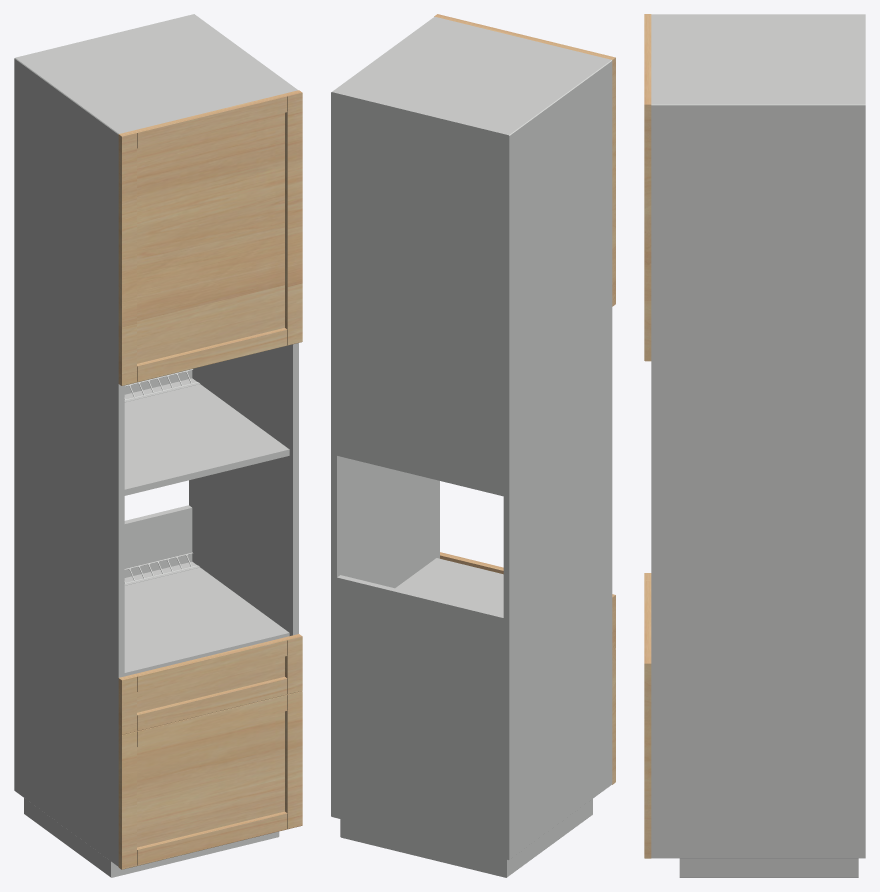
The model's file is METOD_MAXIMERA_High_Cab_Oven_Micro_with_Dr_3_Drawers_White_Torhamn_Ash.obj.
The picture shows the model from 3 angles, left to right: view 1: azimuth 30°, elevation 25°; view 2: azimuth 150°, elevation 25°; view 3: azimuth 270°, elevation 25°; orthographic projection. The views are drawn at different scales.
Visible parts, largest first — view 1: Box001, Box012, Box007, Box011; view 2: Box001, Box012, Box011; view 3: Box001, Box012, Box011, Box007.
Part boxes in pixels (box(x1,y1,x2,y2)): Box001: box(14, 14, 298, 877); Box012: box(118, 90, 302, 385); Box007: box(118, 691, 302, 869); Box011: box(118, 634, 302, 734); Box001: box(331, 16, 612, 877); Box012: box(434, 14, 615, 306); Box011: box(440, 552, 615, 651); Box001: box(651, 14, 865, 877); Box012: box(644, 14, 651, 361); Box011: box(644, 573, 651, 719); Box007: box(644, 720, 651, 858).
Size of the model in its own units: 600 by 2400 by 620.
